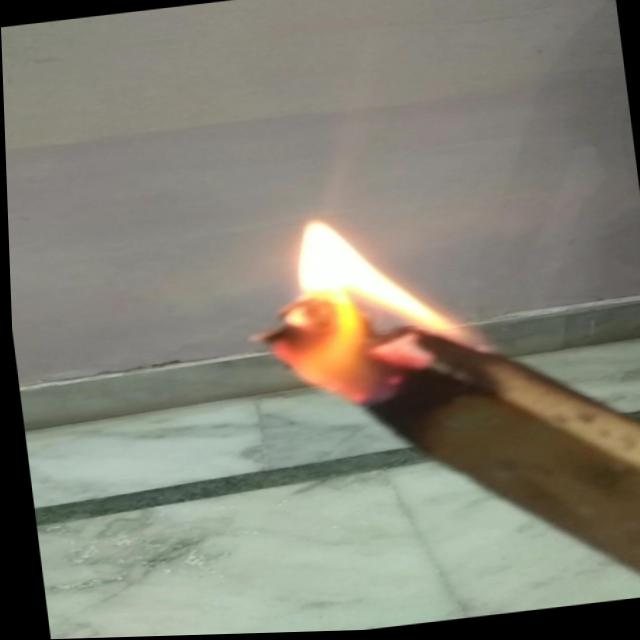fire: (234, 195, 470, 413)
